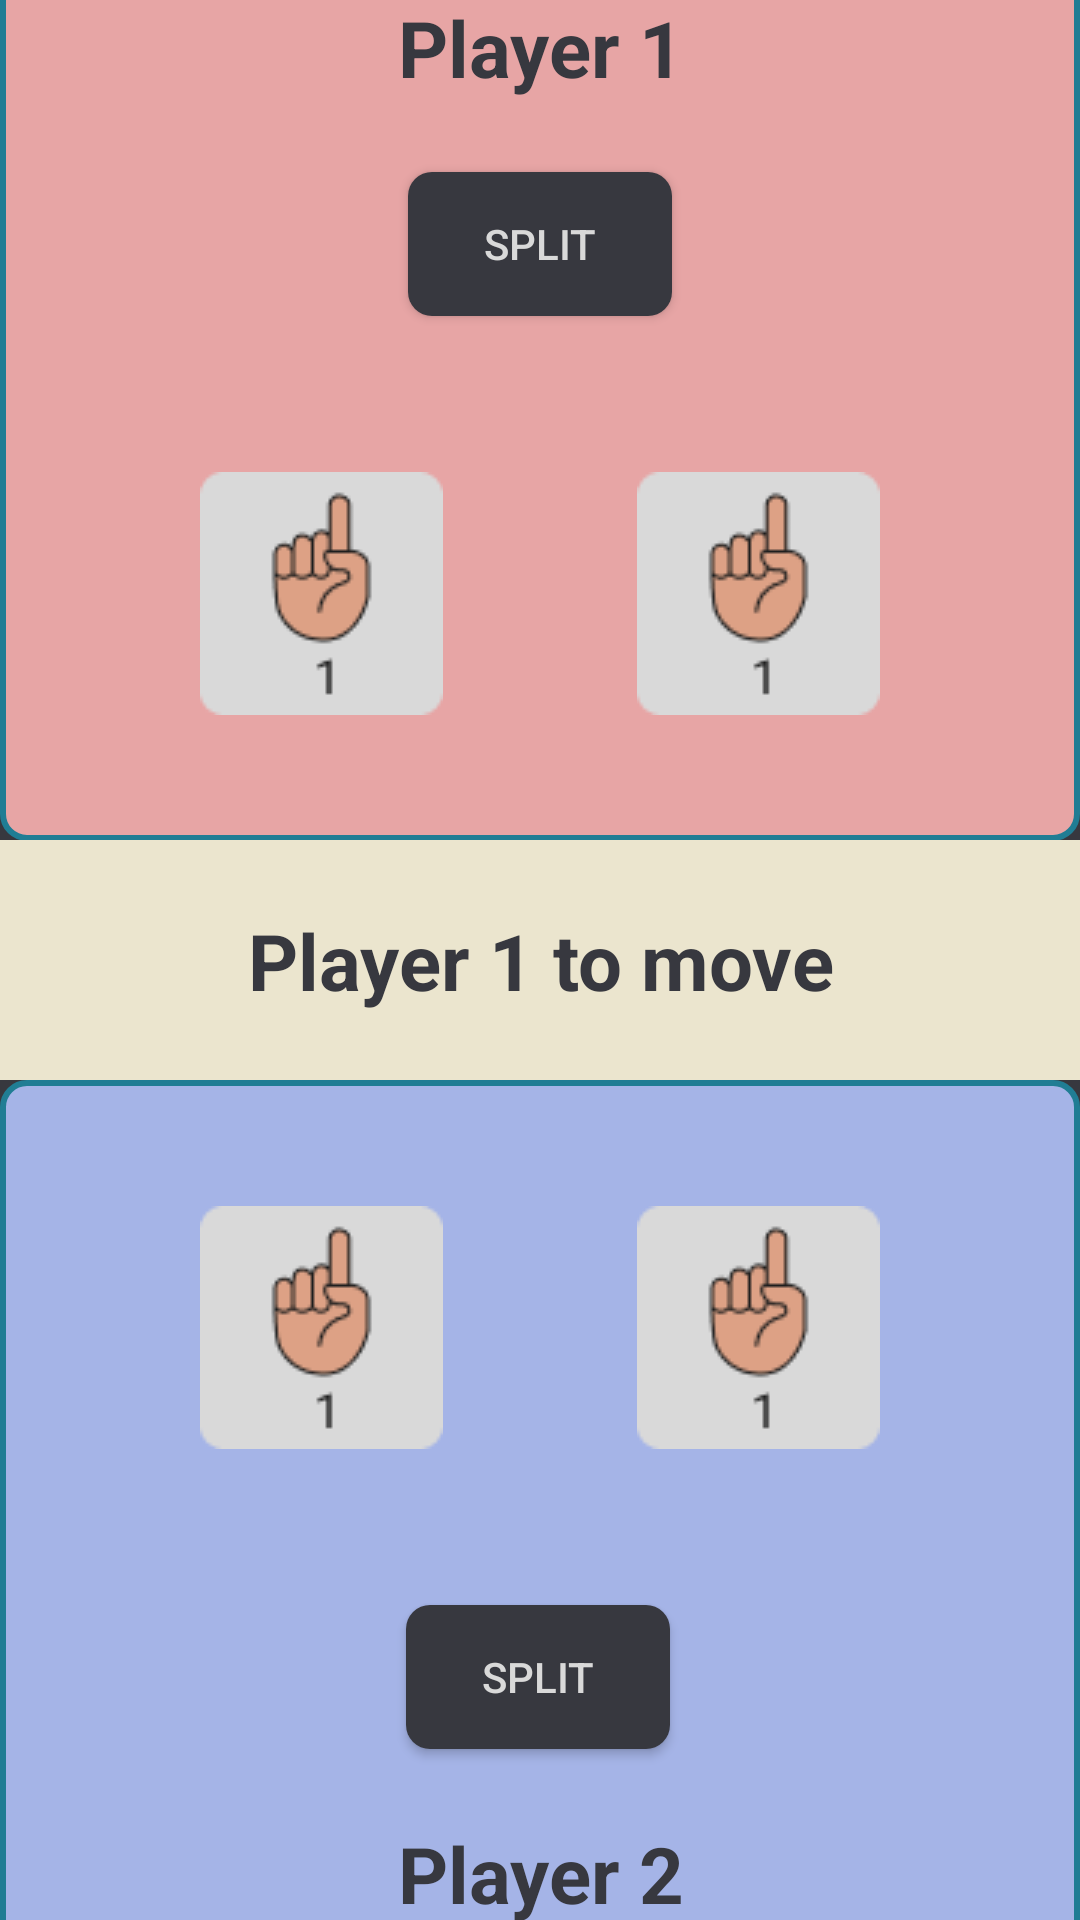

Locate icon controls on the screen. Image size 1080w x 1920h, boxes as (x1, y1, x2, y2).
player 1 left hand: (200, 472, 443, 715)
player 1 right hand: (637, 472, 880, 715)
player 2 left hand: (200, 1206, 443, 1449)
player 2 right hand: (637, 1206, 880, 1449)
